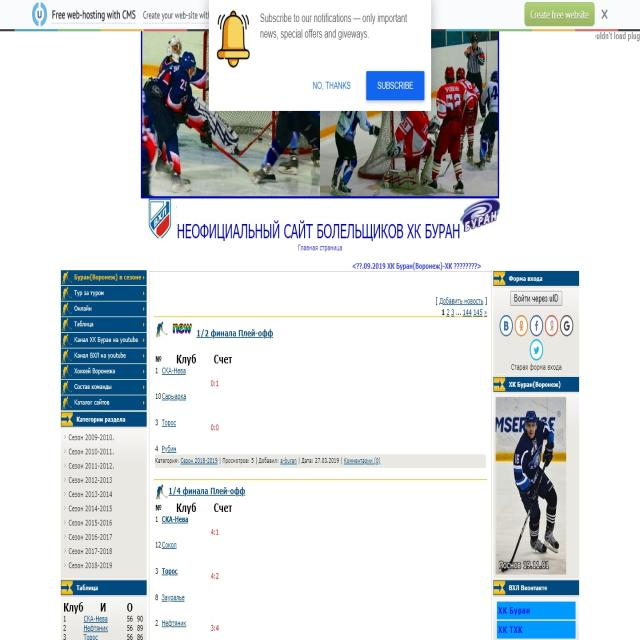button: (511, 291, 562, 311), (562, 313, 576, 338), (514, 313, 527, 337), (529, 338, 543, 360), (530, 314, 543, 336), (501, 314, 512, 337), (546, 316, 558, 336)
heading: (174, 220, 460, 242)
iframe: (209, 3, 431, 112), (1, 0, 640, 31)
image: (141, 32, 497, 195), (496, 398, 567, 572), (458, 196, 500, 234), (148, 200, 172, 238)
link: (197, 324, 276, 341), (164, 486, 246, 499)
text: (61, 270, 148, 424), (156, 500, 238, 640), (63, 432, 115, 571), (155, 368, 238, 453), (156, 351, 236, 366)
